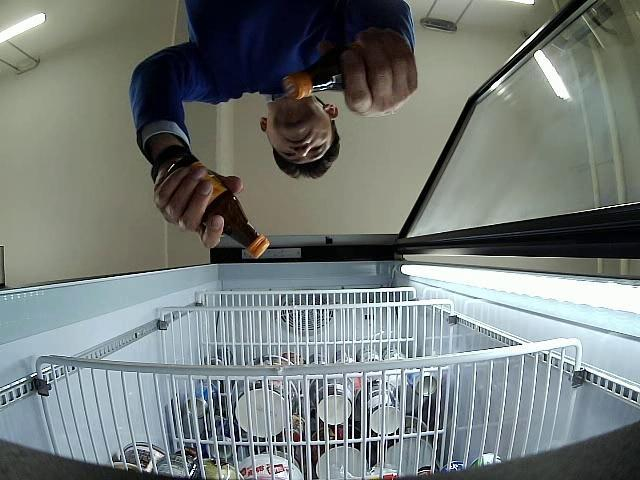17_vita500: (154, 151, 272, 260), (282, 52, 344, 100)
